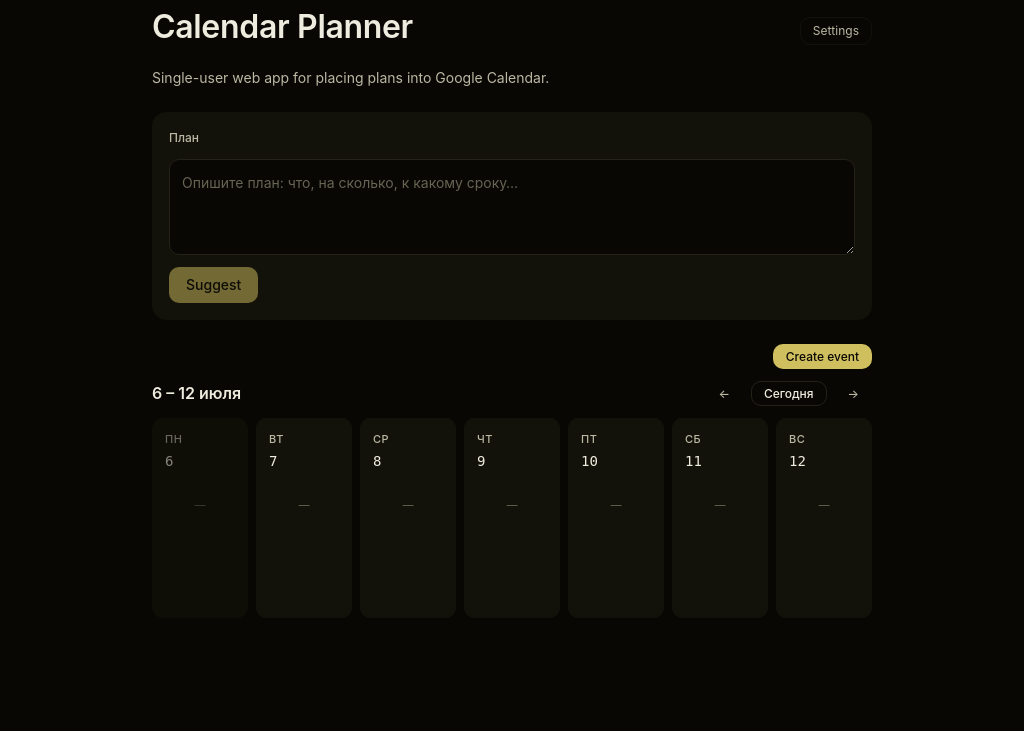
Scenario: App bulk create flow › continues bulk creation and reports failures when one event fails
This screenshot has width=1024, height=731.
Expected: the element with test id "week-view" is shown, x1=152 y1=380 x2=872 y2=618
Type "bulk plan" into the text box labelled "План".
click(512, 207); type("bulk plan")  # box x1=169 y1=159 x2=855 y2=255
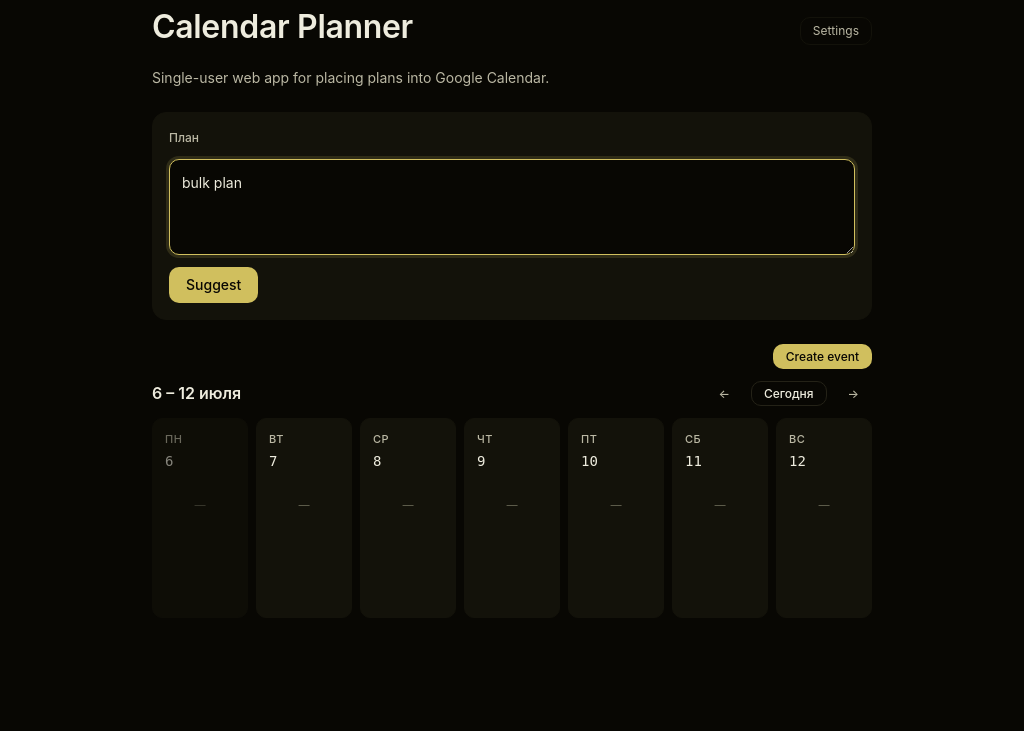
Click the button "Suggest".
click(214, 285)  # box x1=169 y1=267 x2=258 y2=302
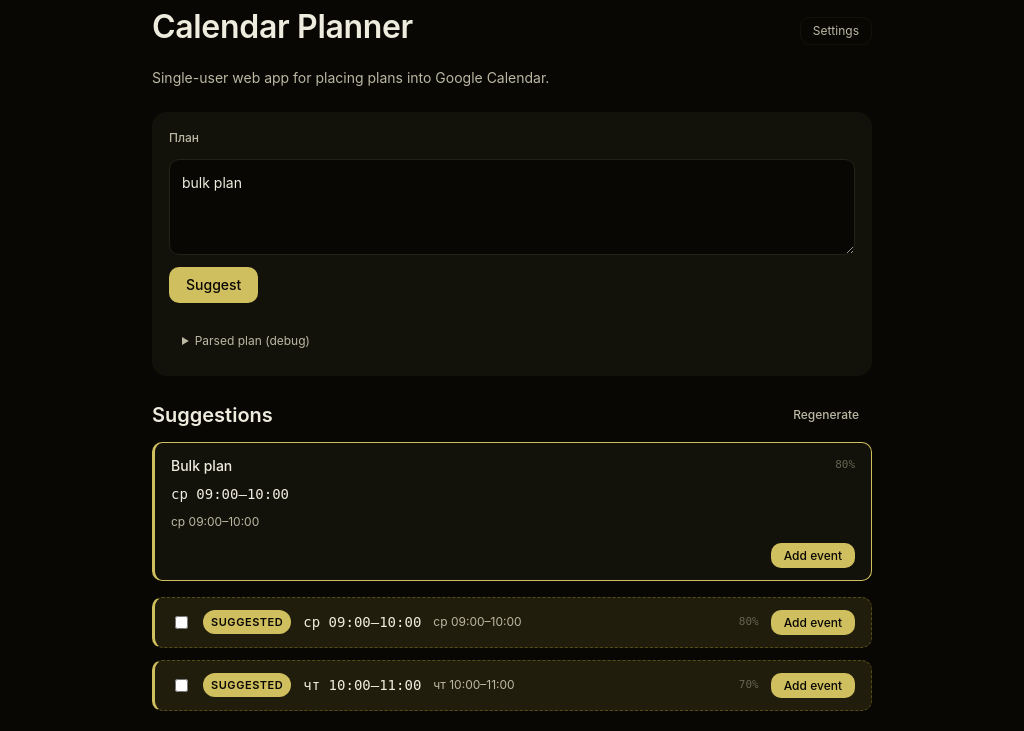
Result: the element with test id "suggestions-list" is shown at x1=152 y1=596 x2=872 y2=710
Click the 1st checkbox with test id "suggestion-checkbox".
click(182, 622)  # box x1=175 y1=616 x2=188 y2=628
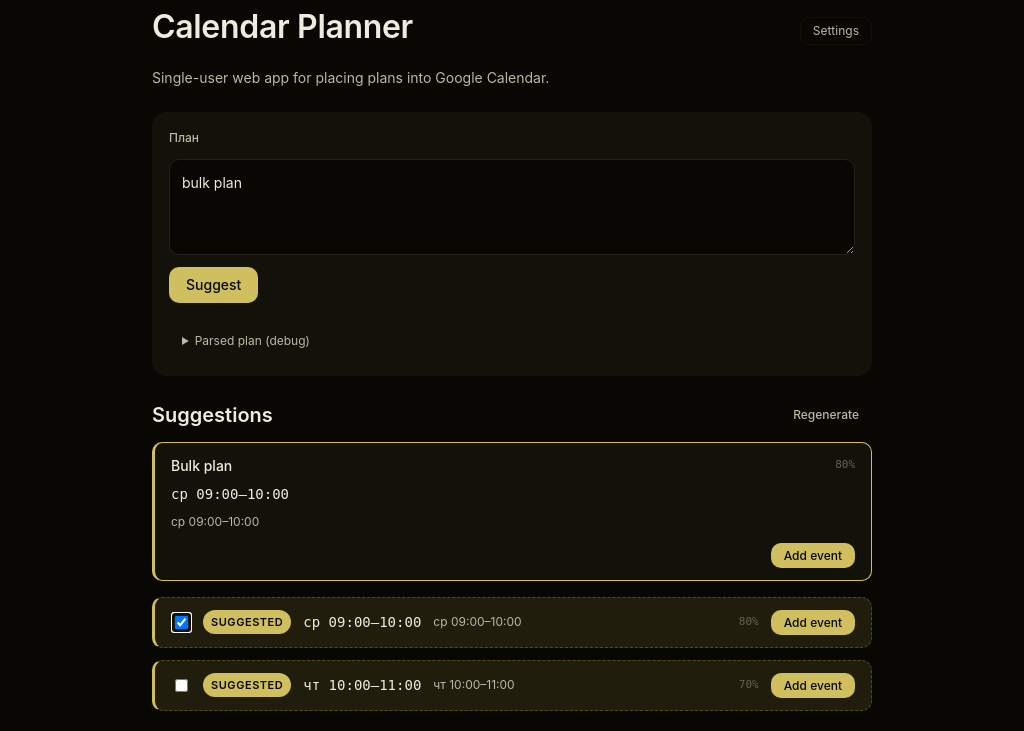
Click the 2nd checkbox with test id "suggestion-checkbox".
click(182, 685)  # box x1=175 y1=678 x2=188 y2=692
(page scrolled)
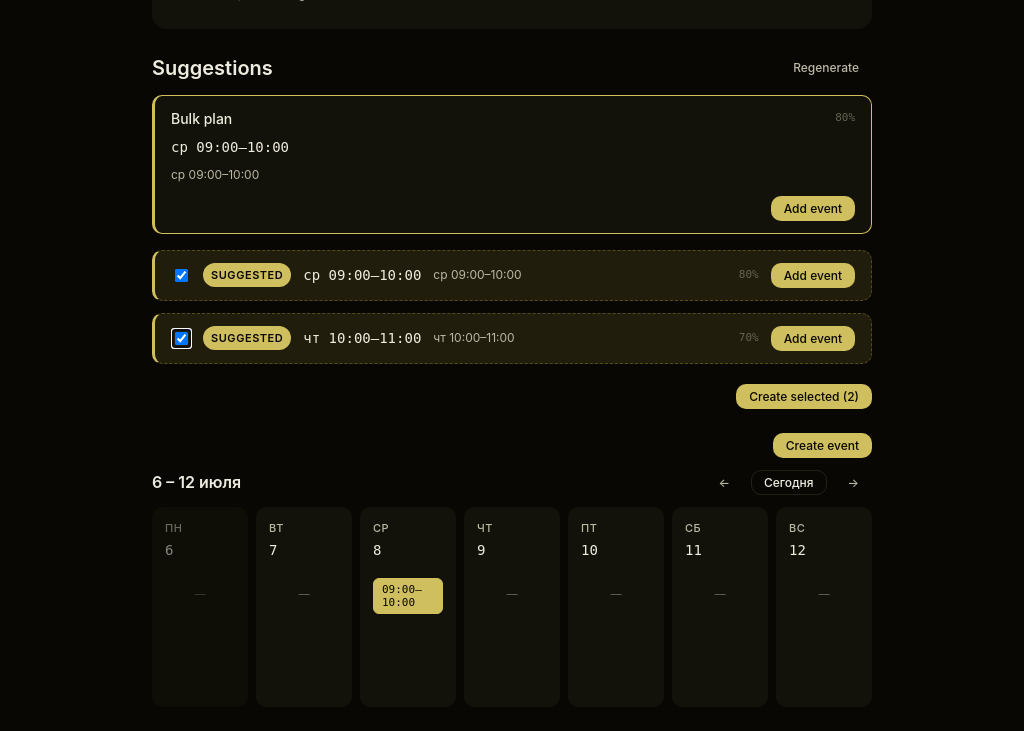
Click the button "Create selected (2)".
click(804, 396)  # box x1=736 y1=384 x2=872 y2=408
(page scrolled)
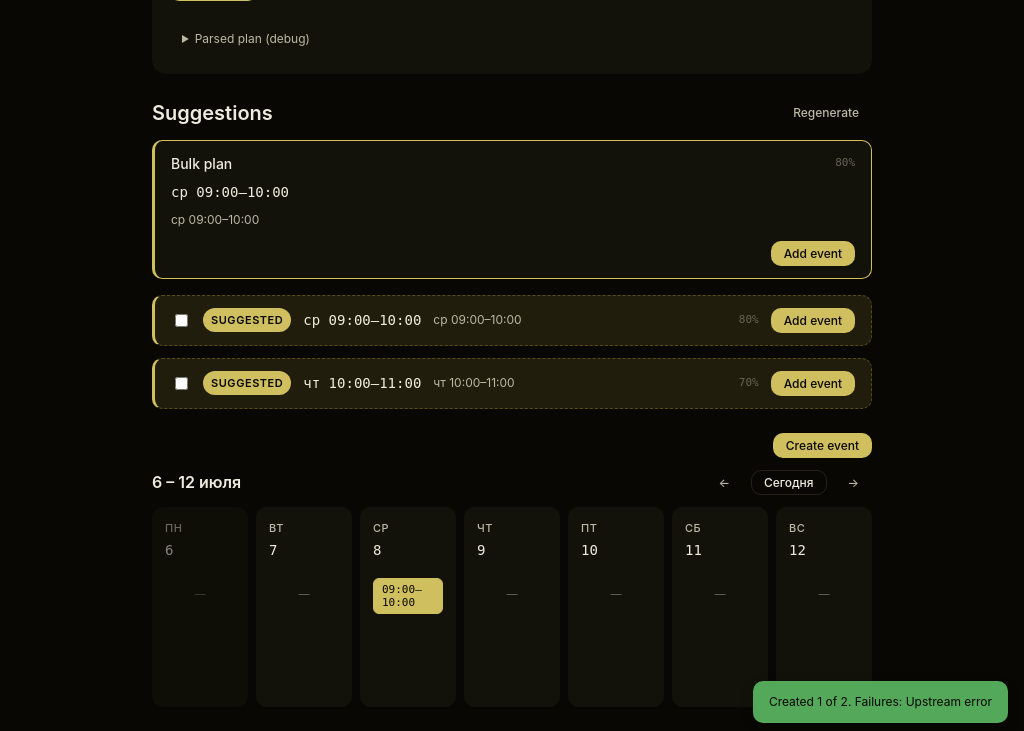
Result: the element with test id "create-toast" shows "Created 1 of 2" at x1=769 y1=694 x2=992 y2=709
Result: the element with test id "create-toast" shows "Upstream error" at x1=769 y1=694 x2=992 y2=709
